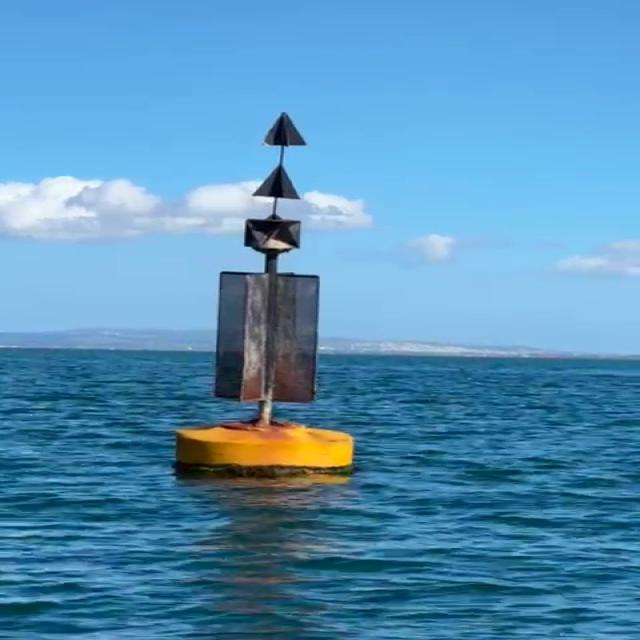marque: (177, 110, 358, 486)
